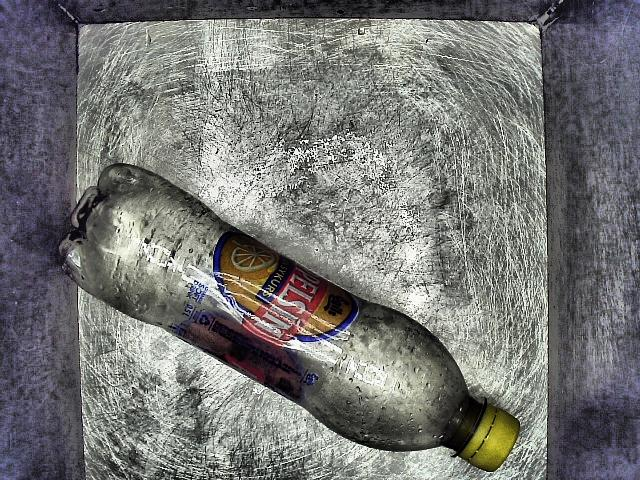Bottles: (54, 140, 532, 468)
